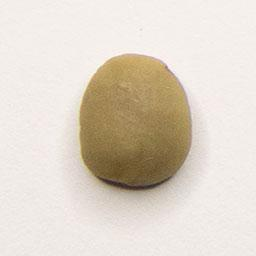premium: (76, 49, 195, 191)
